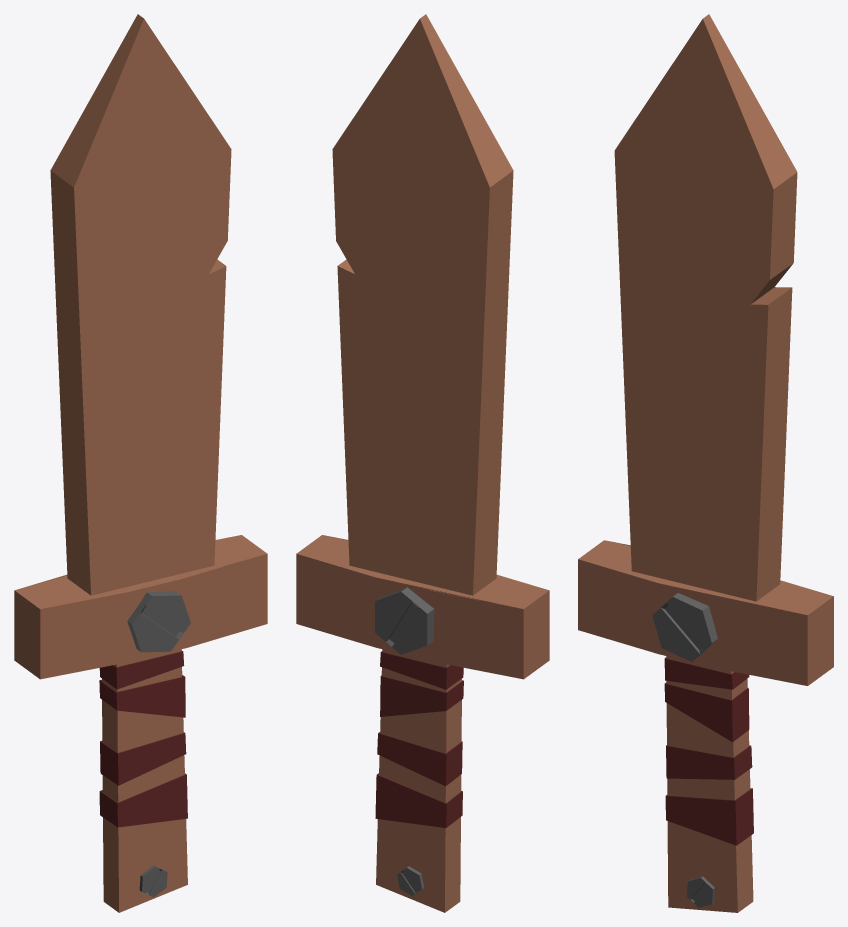
The model's file is Wooden sword.fbx.
3 renders of one model, left to right at view 1: azimuth 30°, elevation 25°; view 2: azimuth 150°, elevation 25°; view 3: azimuth 330°, elevation 25°, orthographic.
Visible parts, largest first — view 1: Wooden Sword; view 2: Wooden Sword; view 3: Wooden Sword.
Boxes of the visible parts, x1,y1,x2,y2 form: Wooden Sword: (14, 14, 267, 912); Wooden Sword: (296, 14, 549, 912); Wooden Sword: (578, 14, 833, 912).
Size of the model in its own units: 40.67 by 151 by 13.82.
